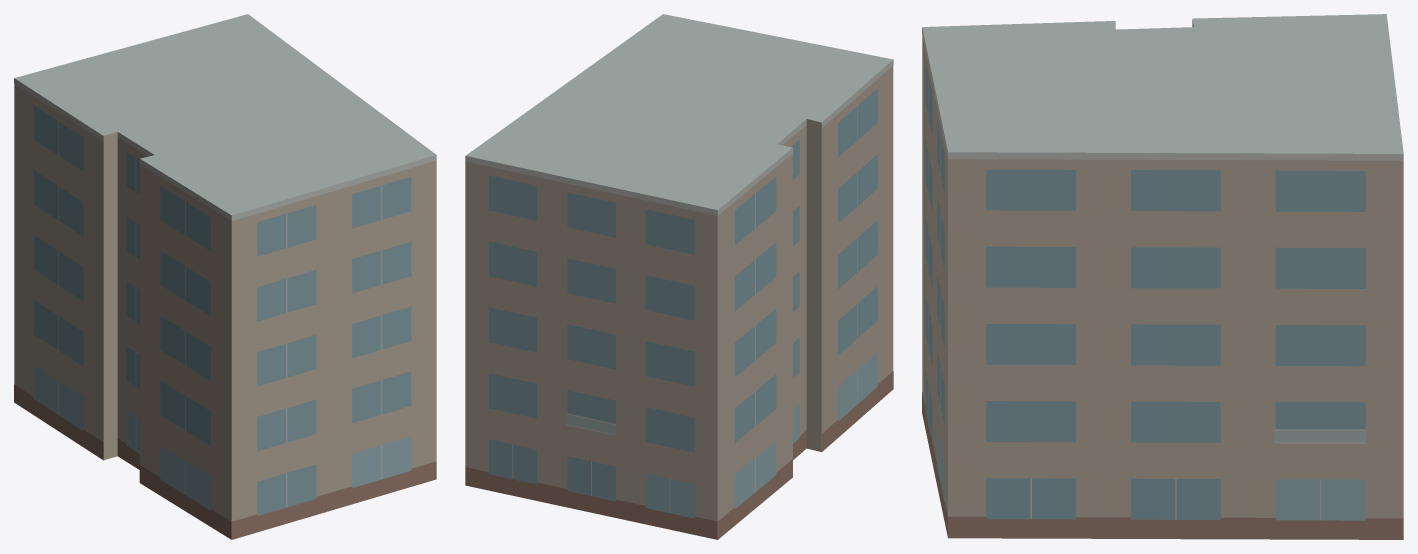
Rendered from survey-upis-32743166.glb.
3 views of the same model, side by side, from view 1: azimuth 30°, elevation 25°; view 2: azimuth 150°, elevation 25°; view 3: azimuth 270°, elevation 25° (orthographic). The views are drawn at different scales.
Visible parts, largest first — view 1: survey-upis-32743166.tmp; view 2: survey-upis-32743166.tmp; view 3: survey-upis-32743166.tmp.
Boxes of the visible parts, x1,y1,x2,y2 form: survey-upis-32743166.tmp: (14,14,436,539); survey-upis-32743166.tmp: (465,14,893,539); survey-upis-32743166.tmp: (922,14,1403,539).
Bounding box in the file's own units: 10.81 × 13.85 × 15.68.
